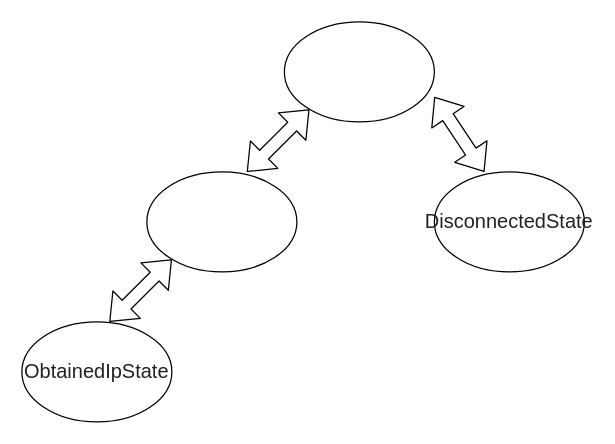
This 615x444 diagram has some shape labels left out. The shapes that lost their labels are listed below. From the top down, each one's centre as x and y in pixels, then its label:
the point at 358,71: DefaultState
the point at 221,221: L2ConnectedState
